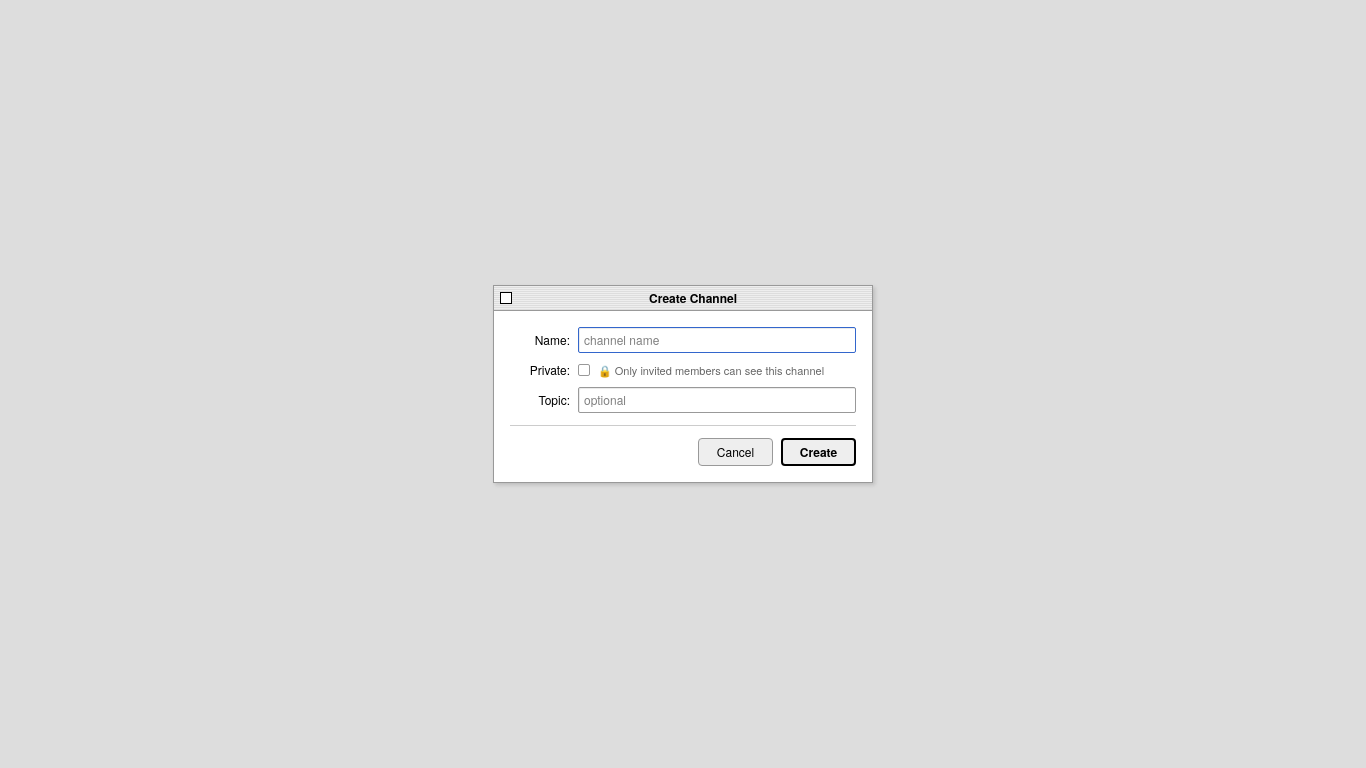
Test case: CreateChannelModal › shows a validation error when the name cannot produce a usable slug
Type "!!!" into the field labelled "Name:" at coordinates (717, 340), box [578,327,856,353]
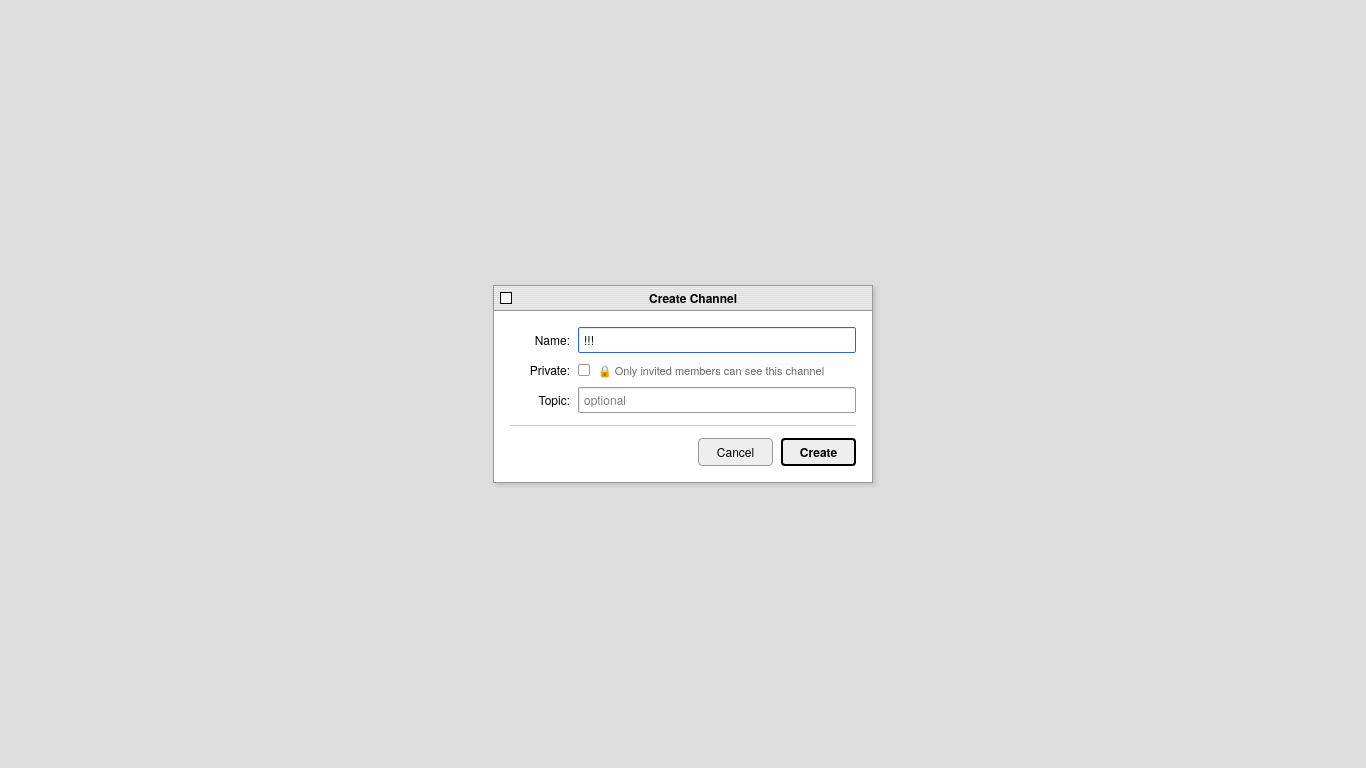
Click the button "Create" at coordinates (818, 452), box [781,438,856,466]
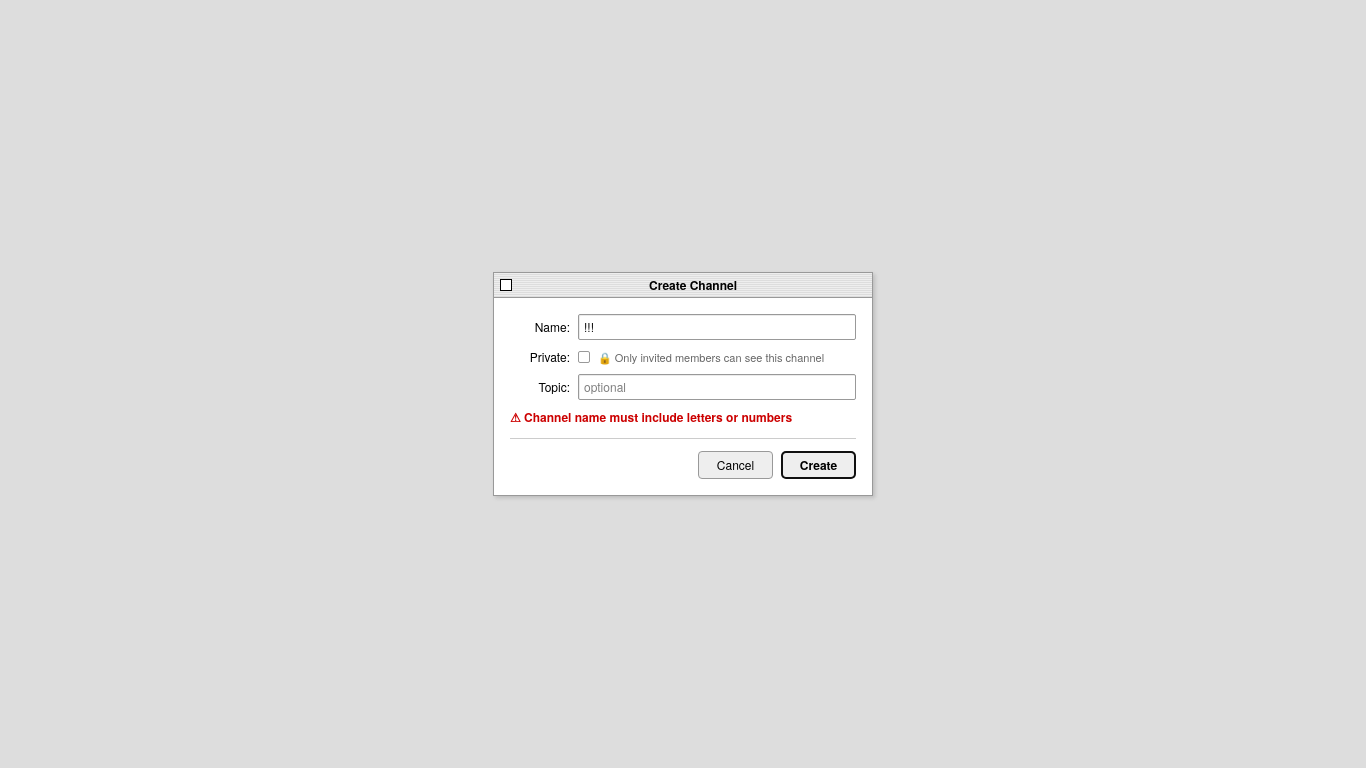
Expected: the message shows "Channel name must include letters or numbers", [524,408,792,426]
